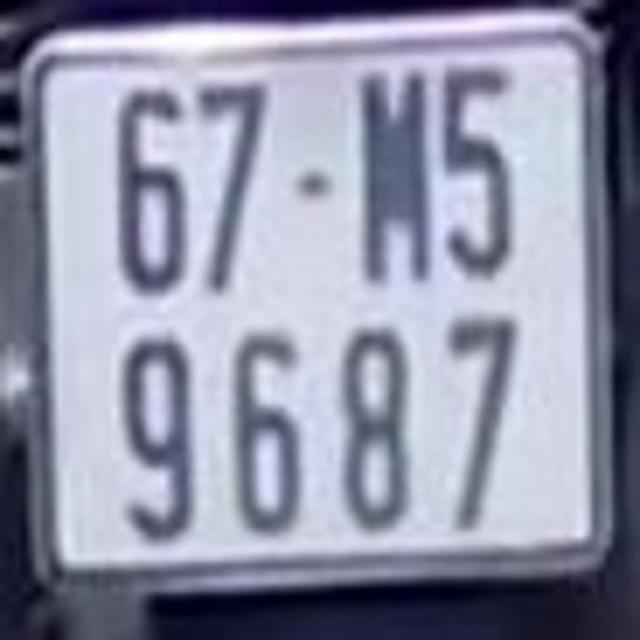5: (437, 36, 520, 276)
6: (218, 312, 312, 532), (105, 72, 191, 295)
7: (192, 62, 272, 300), (442, 308, 527, 528)
8: (336, 308, 420, 532)
9: (112, 326, 206, 542)
M: (347, 45, 437, 292)
